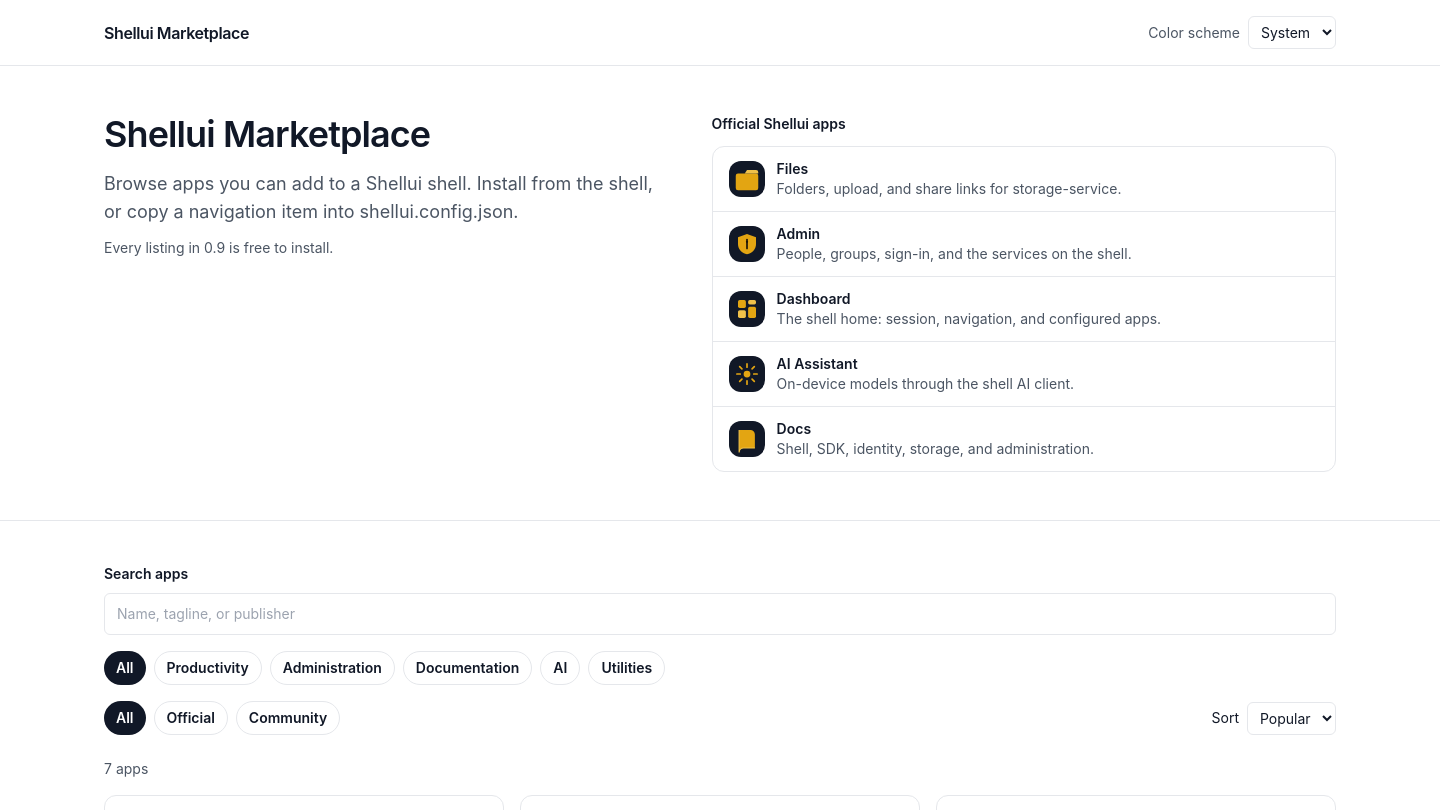
Test: browse › filters by search, category, and publisher
Type "notes" into the search field labelled "Search apps" at (720, 614), box [104,593,1336,635]
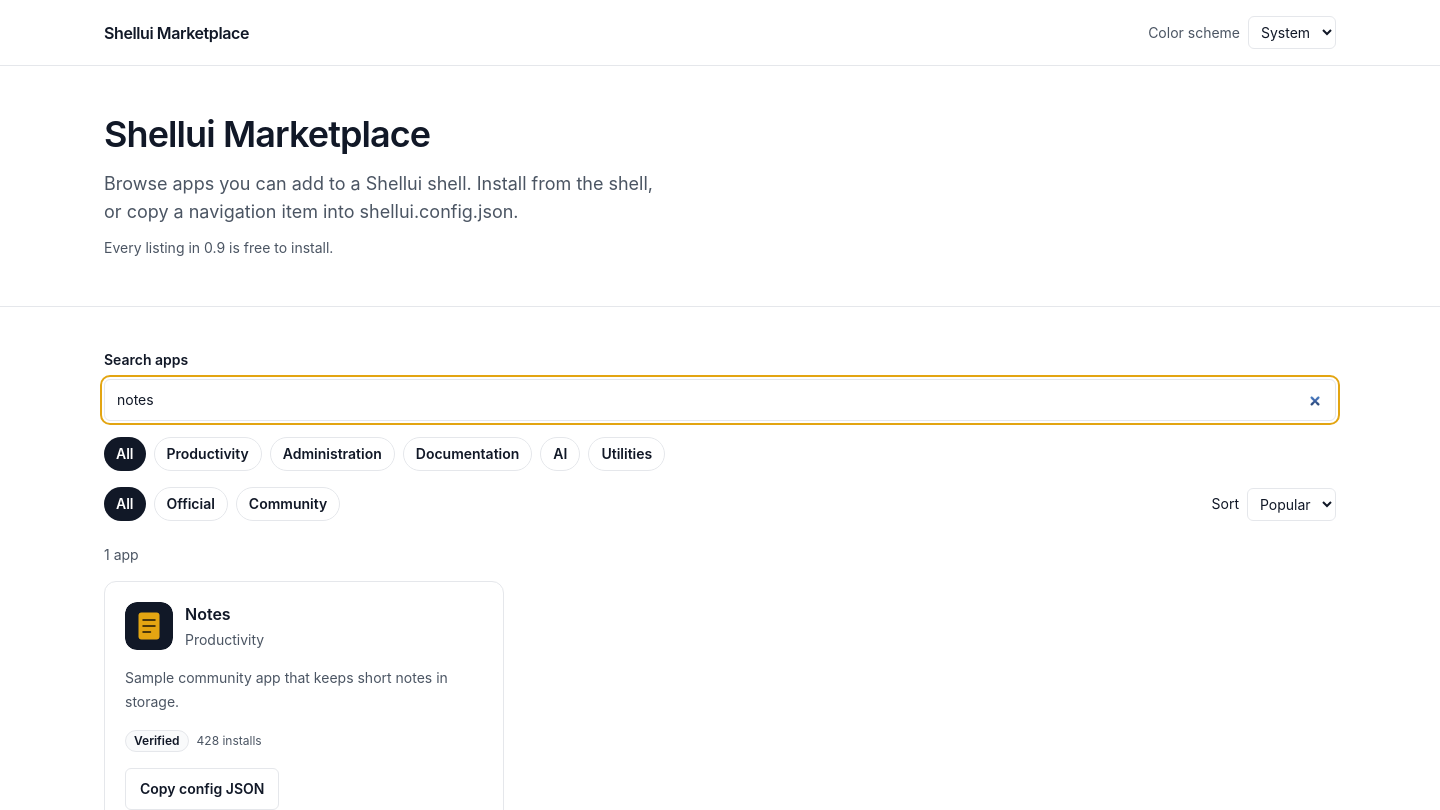
Check: the heading "Notes" is shown, box [185,604,231,624]
Check: the link "Files" is gone
Clear the search field labelled "Search apps" at (720, 400), box [104,379,1336,421]
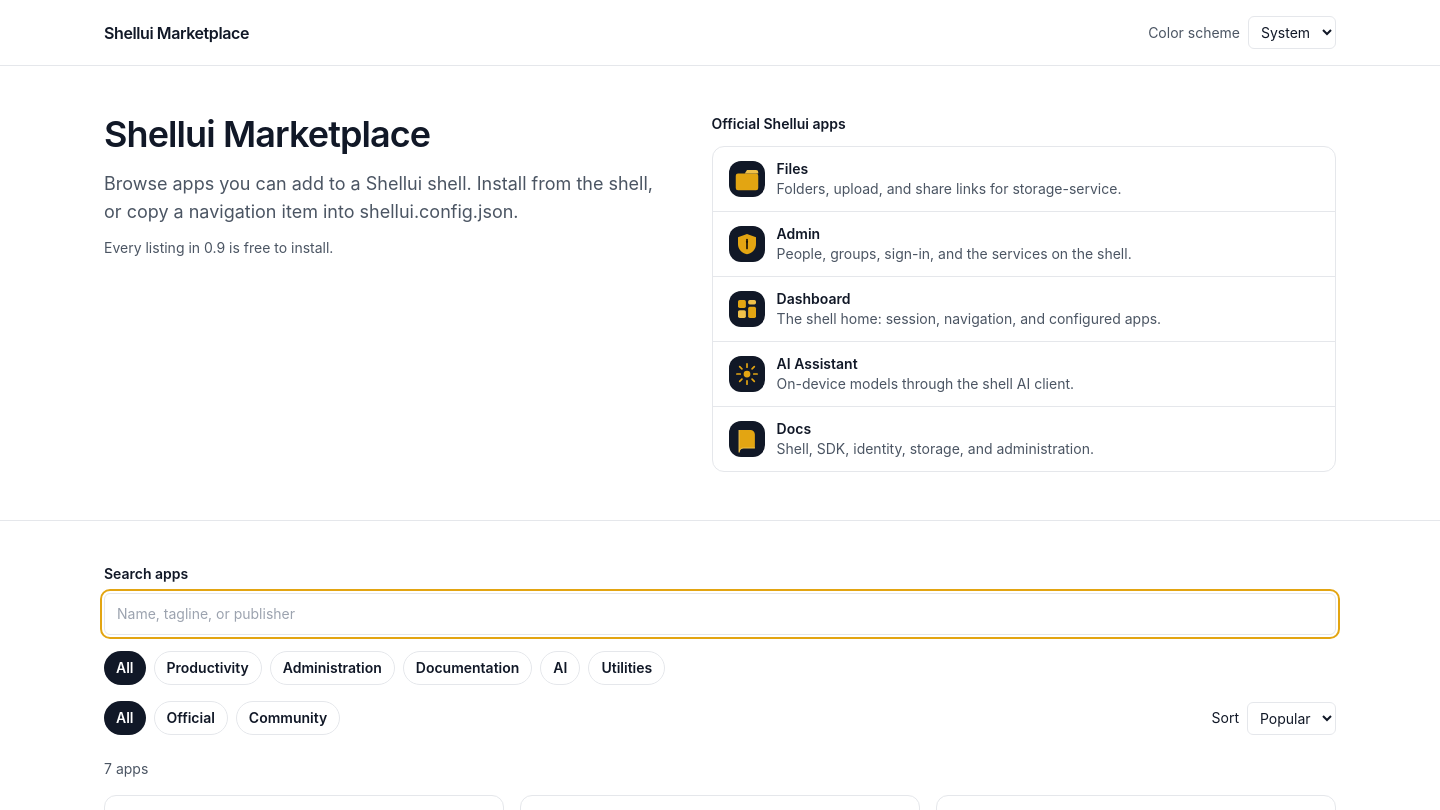
Click the button "Documentation" at (468, 668), box [403,651,532,685]
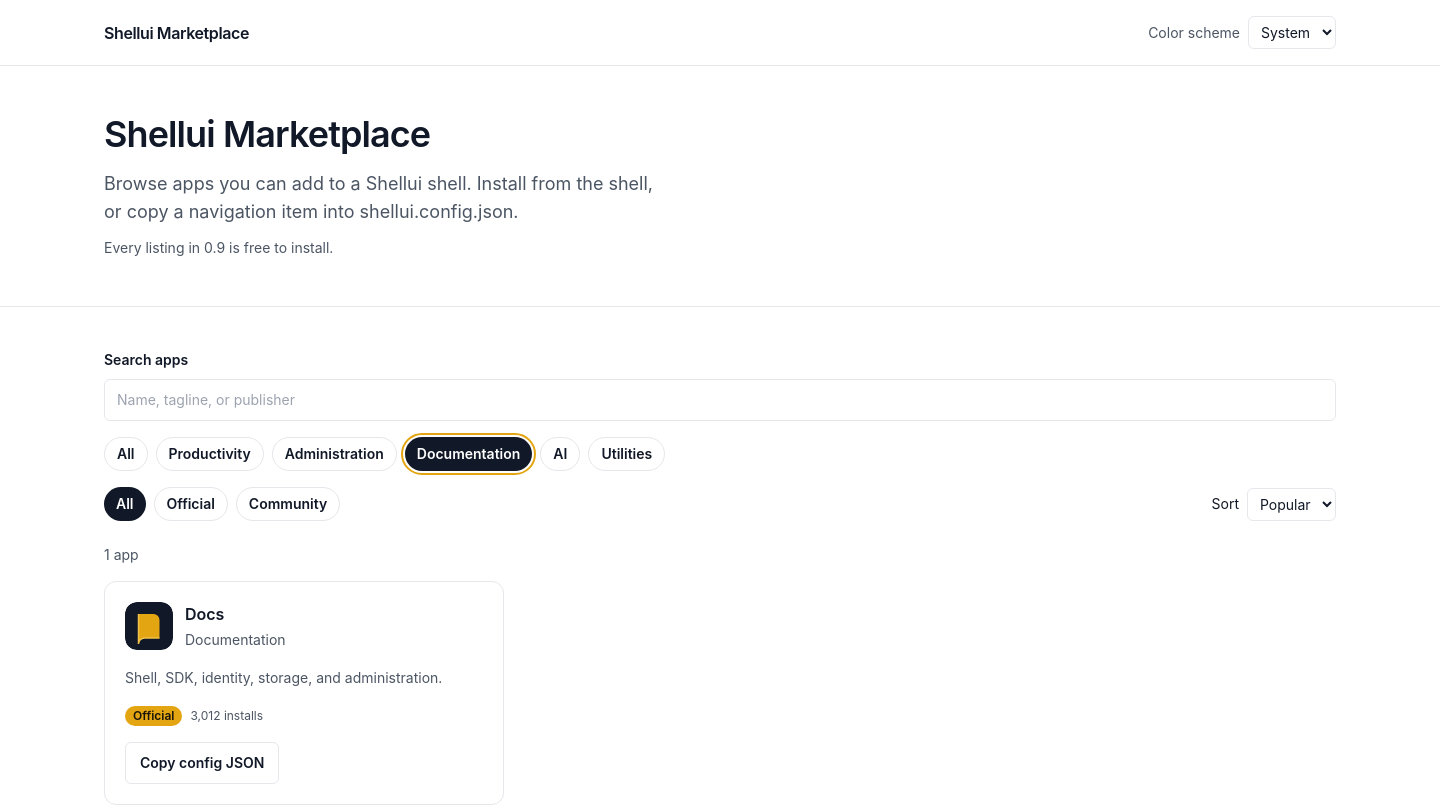
Check: the heading "Docs" is shown, box [185,604,224,624]
Check: the link "Files" is gone
Click the 1st button "All" at (126, 454), box [104,437,148,471]
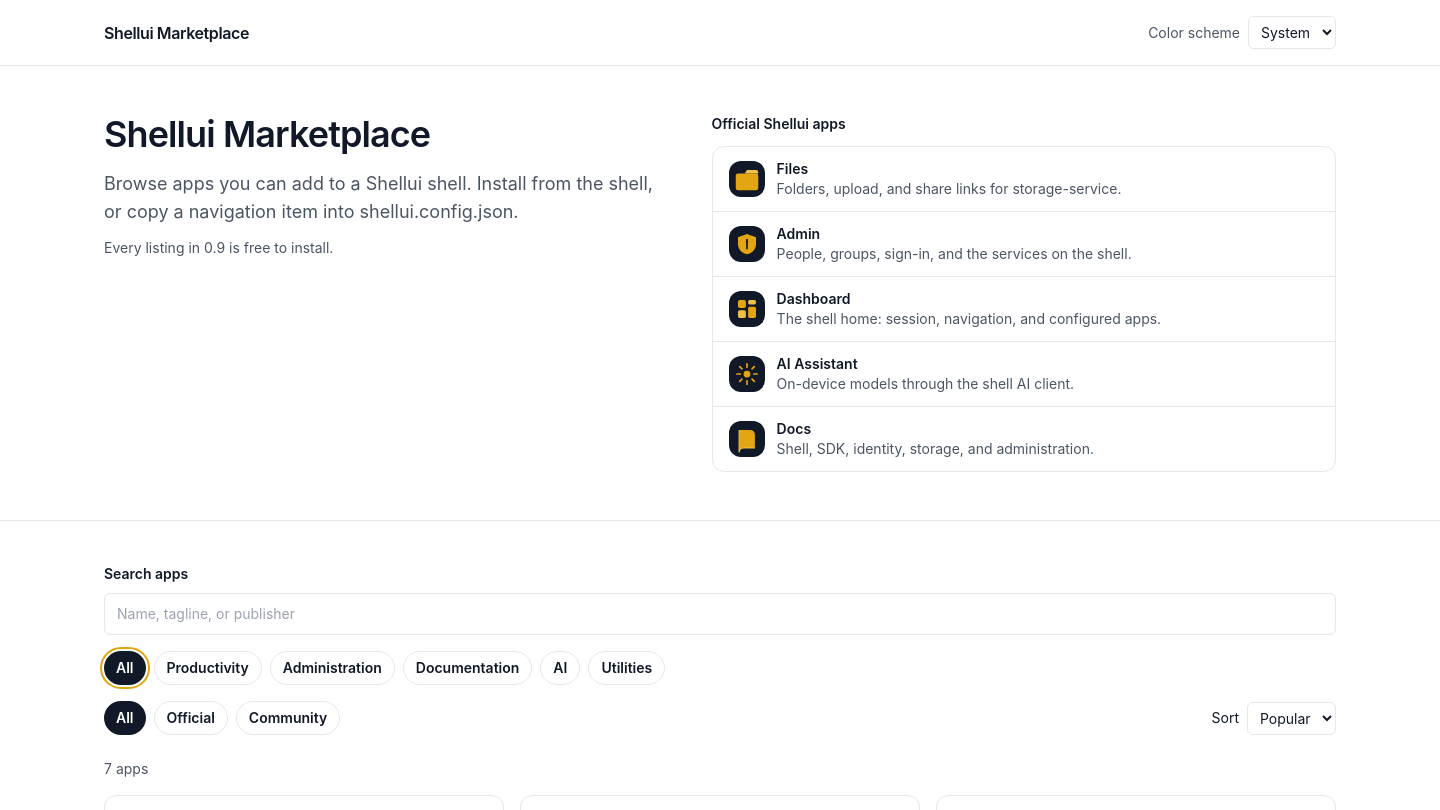
Click the button "Official" at (191, 718), box [154,701,228,735]
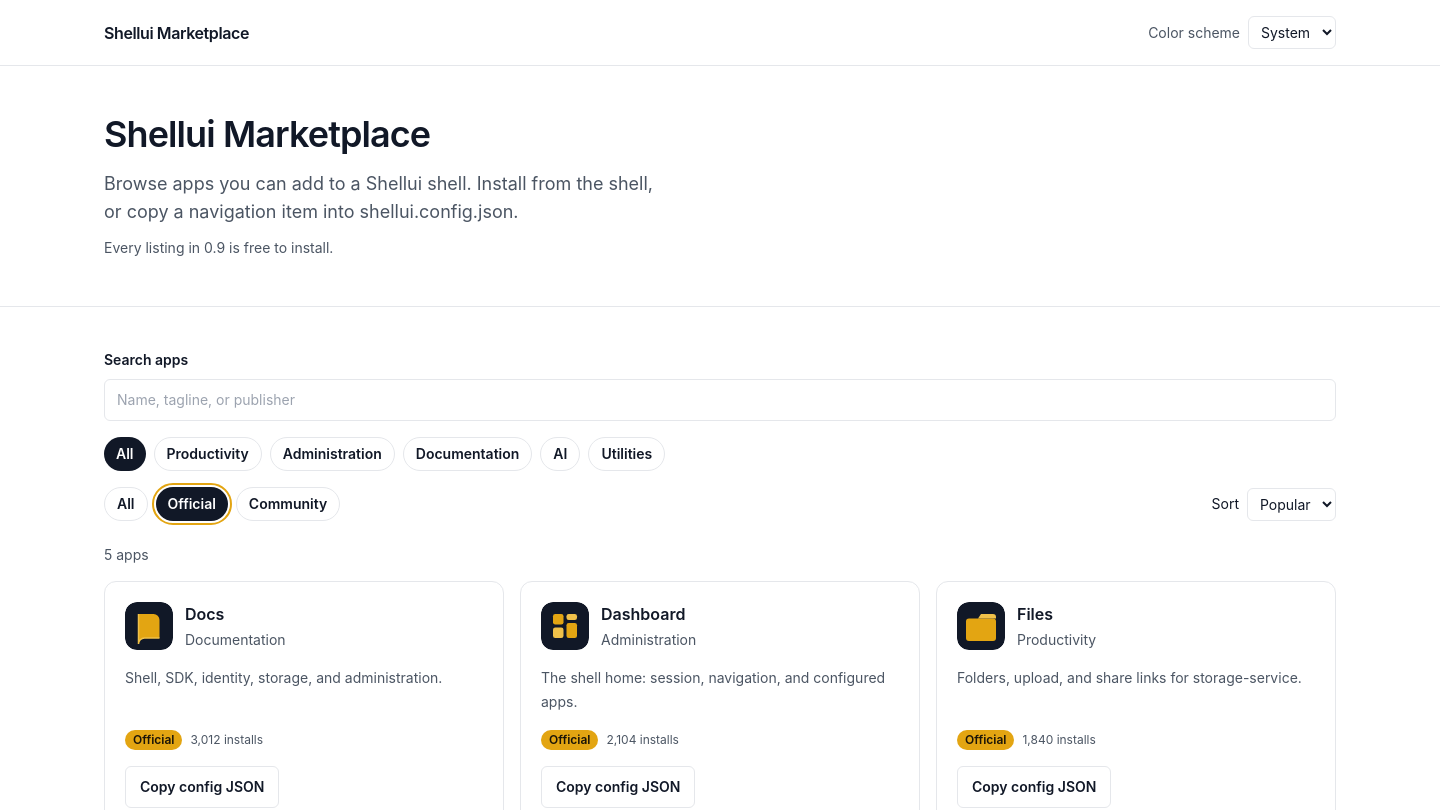
Check: the heading "Files" is shown, box [1017,604,1053,624]
Click the button "Community" at (288, 504), box [236,487,340,521]
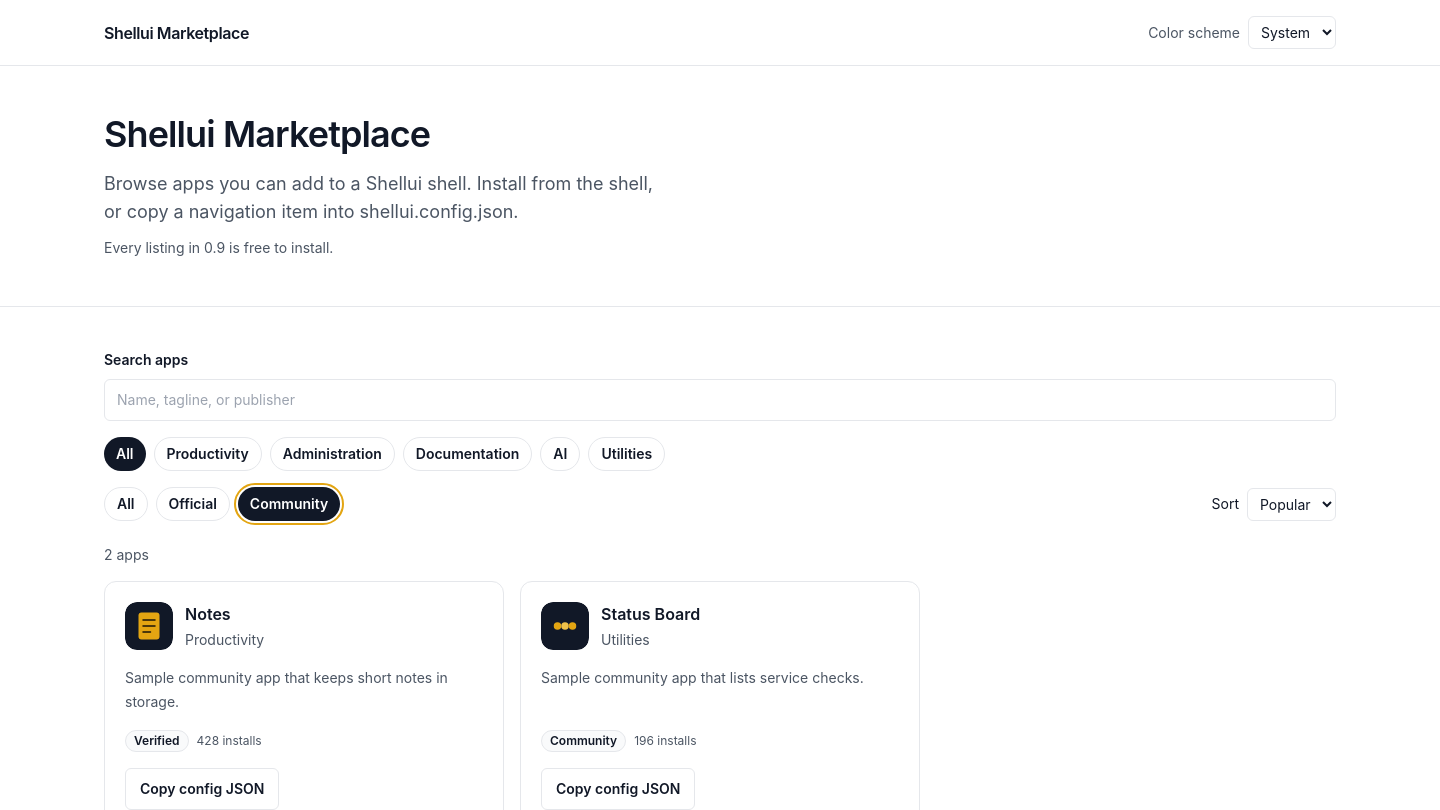
Check: the heading "Notes" is shown, box [185,604,231,624]
Check: the heading "Status Board" is shown, box [601,604,700,624]
